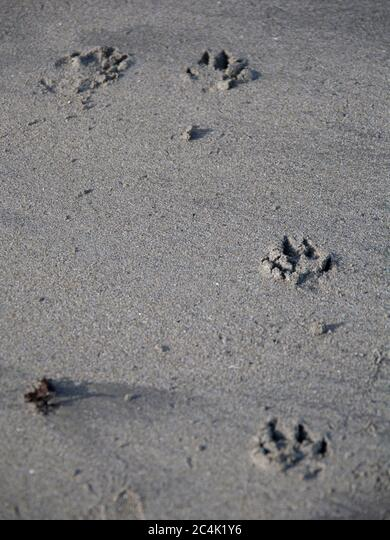chien: (245, 417, 334, 487), (261, 233, 340, 297)
